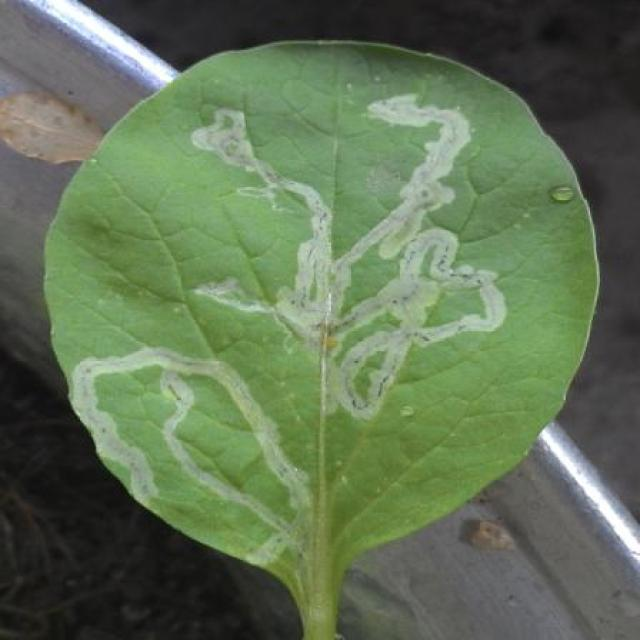Leaf Miner: (41, 36, 604, 577)
